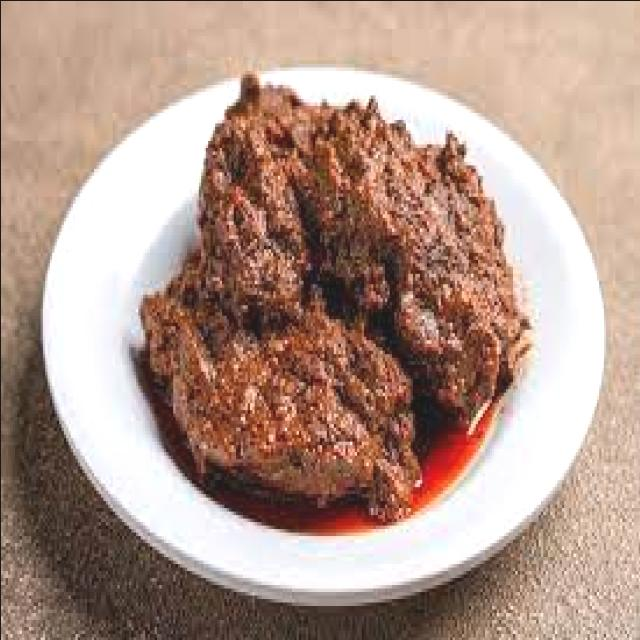rendang: (130, 73, 533, 535)
